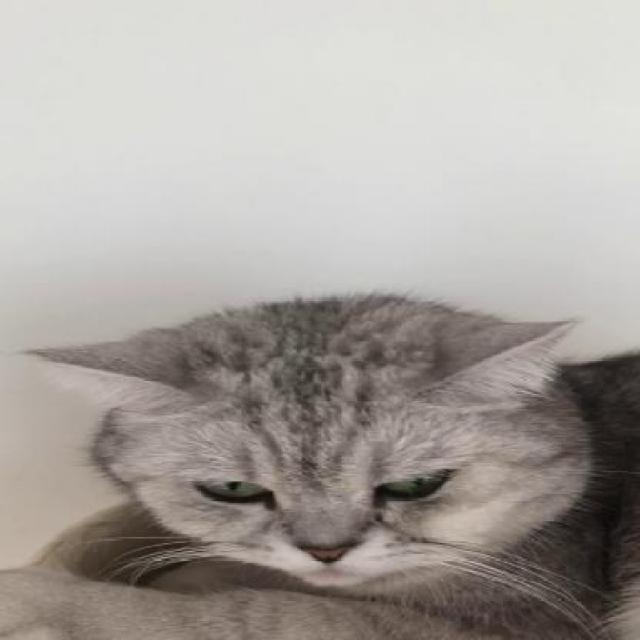cat-face: (19, 301, 596, 594)
